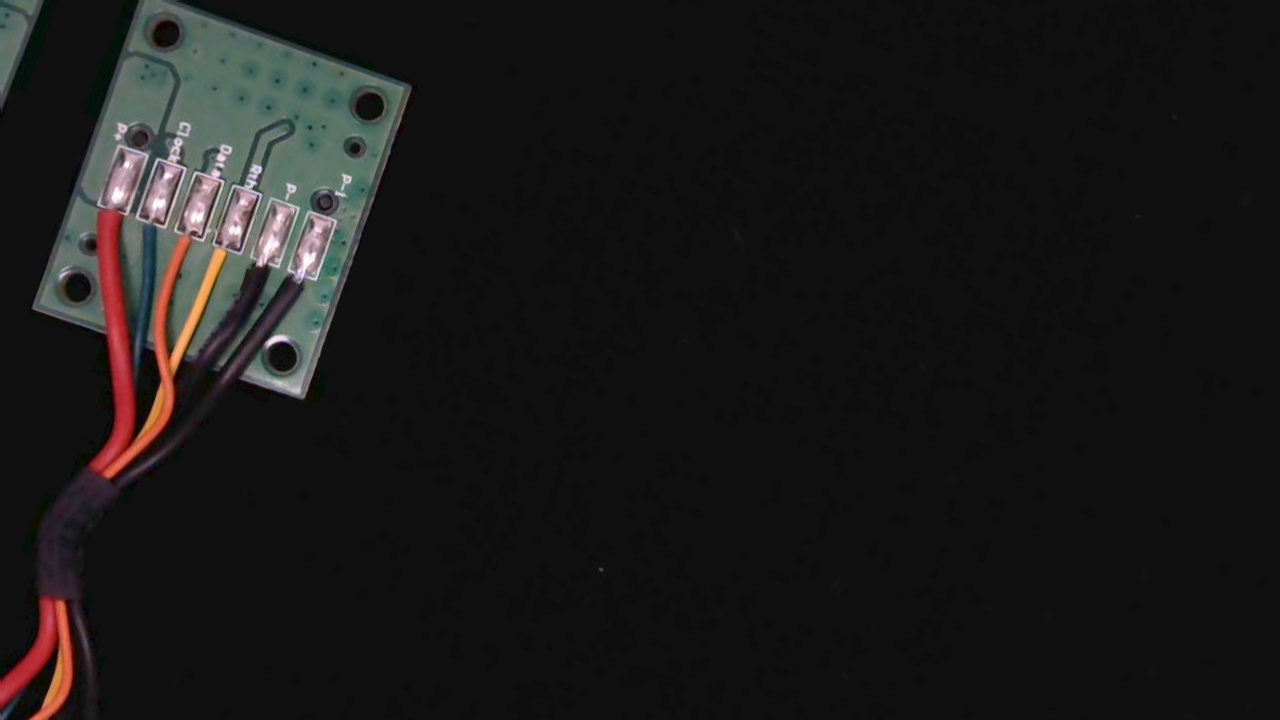Black: (228, 243, 281, 319)
Black1: (267, 257, 321, 332)
Green: (115, 202, 172, 280)
Orange: (153, 216, 209, 295)
Red: (75, 191, 132, 268)
Yellow: (186, 230, 245, 311)
